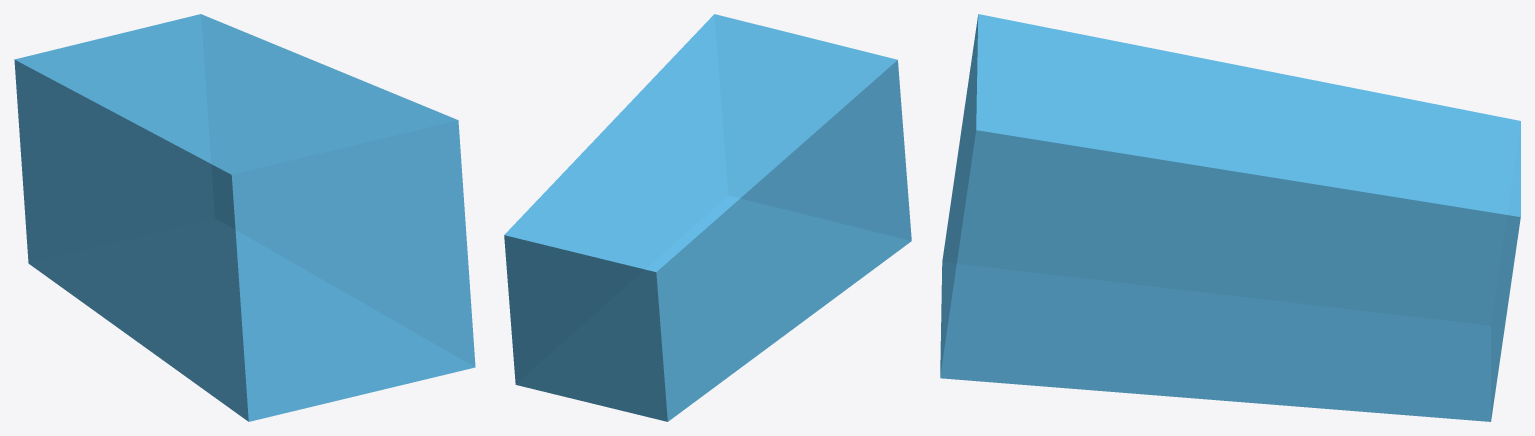
File: Event_421364160_HBrechit_4.fbx
The picture shows the model from 3 angles, left to right: view 1: azimuth 30°, elevation 25°; view 2: azimuth 150°, elevation 25°; view 3: azimuth 270°, elevation 25°; orthographic projection. The views are drawn at different scales.
Visible parts, largest first — view 1: Model; view 2: Model; view 3: Model.
Boxes of the visible parts, x1=… form: Model: x1=14, y1=14, x2=475, y2=421; Model: x1=504, y1=14, x2=911, y2=421; Model: x1=940, y1=14, x2=1520, y2=421.
Bounding box in the file's own units: 0.4857 × 0.5675 × 1.02.
